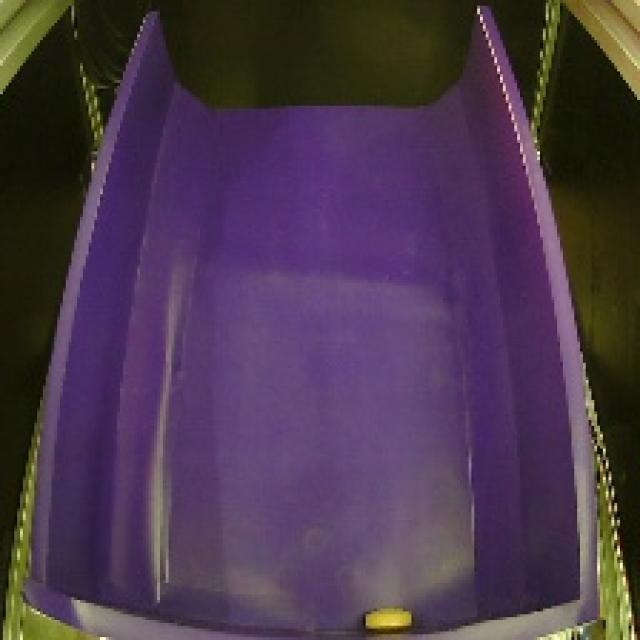small: (362, 594, 416, 634)
